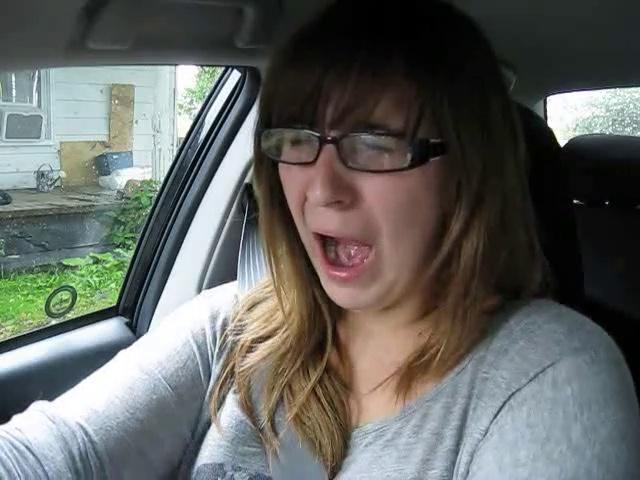close_eyeL: (269, 121, 332, 166)
close_eyeR: (335, 129, 414, 174)
yawn: (300, 220, 390, 285)
